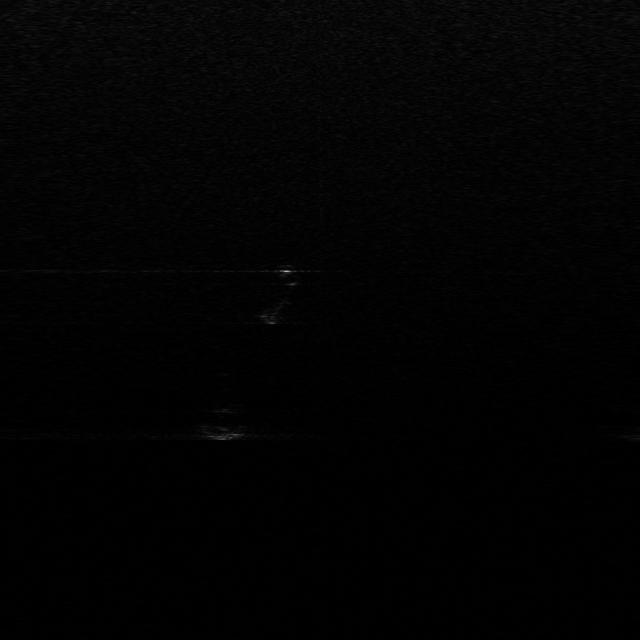ball: (200, 407, 250, 441)
tyre: (260, 261, 300, 324)
